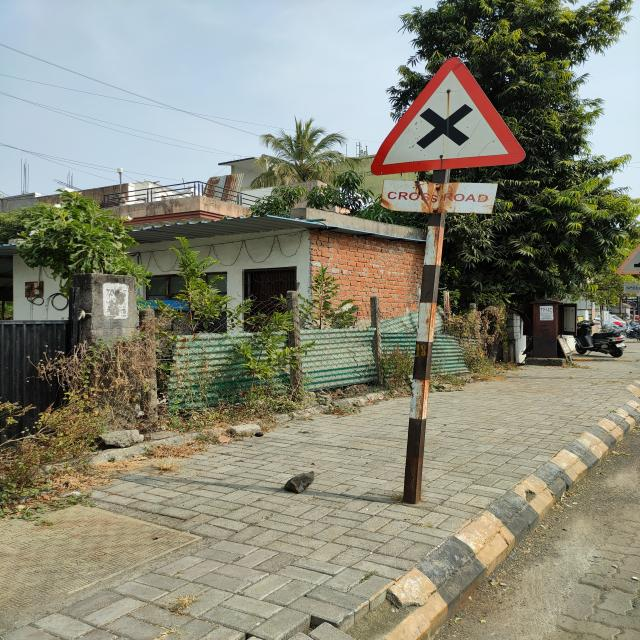CROSS_ROAD: (364, 53, 532, 178)
